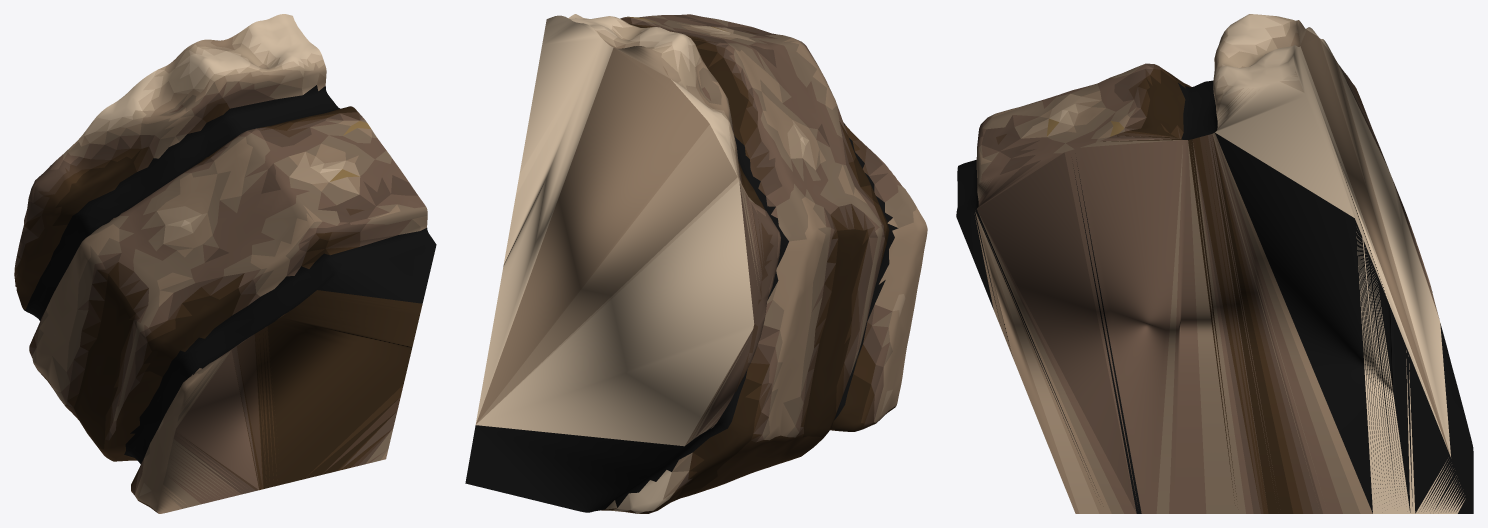
Rendered from rock_column_ml.glb.
3 views of the same model, side by side, from view 1: azimuth 30°, elevation 25°; view 2: azimuth 150°, elevation 25°; view 3: azimuth 270°, elevation 25° (orthographic). The views are drawn at different scales.
Parts seen in each view (by area): view 1: rock_column_ml; view 2: rock_column_ml; view 3: rock_column_ml.
Part boxes in pixels (x1=…): rock_column_ml: x1=14, y1=14, x2=436, y2=513; rock_column_ml: x1=465, y1=14, x2=927, y2=513; rock_column_ml: x1=956, y1=14, x2=1473, y2=513.
Bounding box in the file's own units: 22.88 × 34.86 × 36.38.
